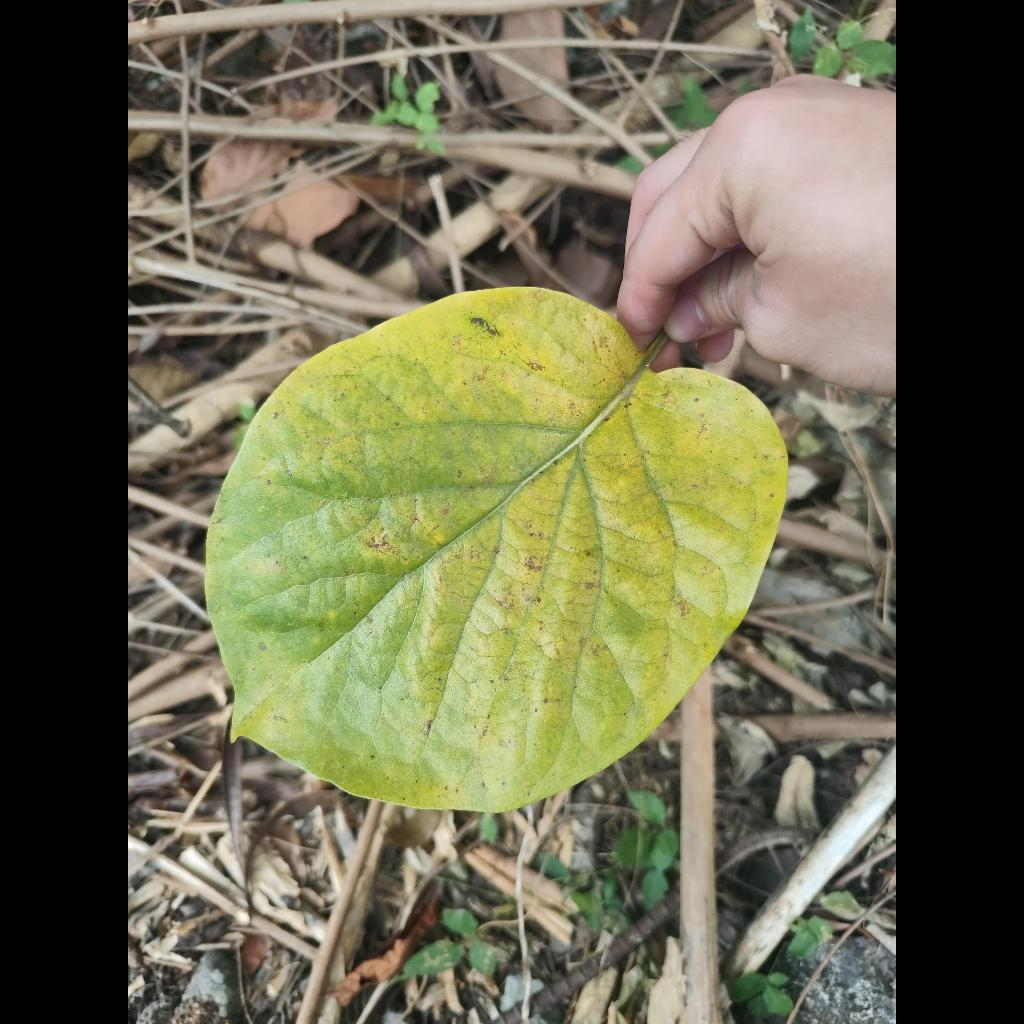nutrient_deficiency: (207, 289, 786, 812)
